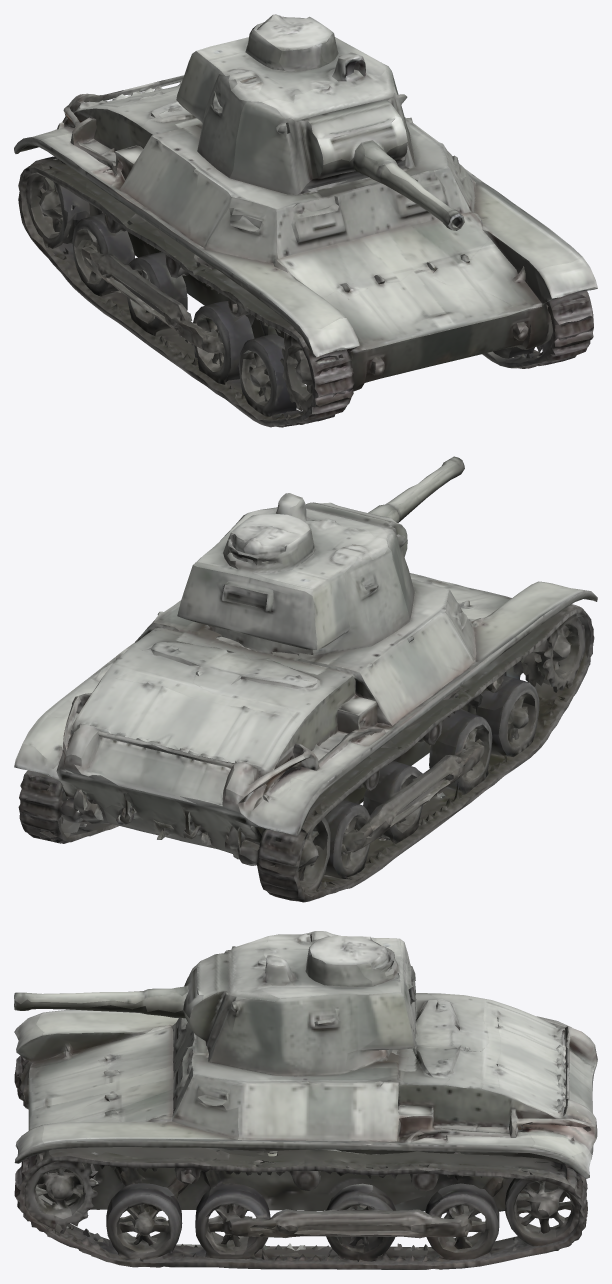
File: land_light.glb
3 views of the same model, one above another, from view 1: azimuth 30°, elevation 25°; view 2: azimuth 150°, elevation 25°; view 3: azimuth 270°, elevation 25° (orthographic). The views are drawn at different scales.
Visible parts, largest first — view 1: geometry_0; view 2: geometry_0; view 3: geometry_0.
Part boxes in pixels (left/top/right/bottom): geometry_0: left=14, top=14, right=597, bottom=427; geometry_0: left=14, top=456, right=597, bottom=902; geometry_0: left=14, top=931, right=597, bottom=1269.
Size of the model in its own units: 4.8 by 4.42 by 8.8.
Materials: 1 (1 with a texture image).
